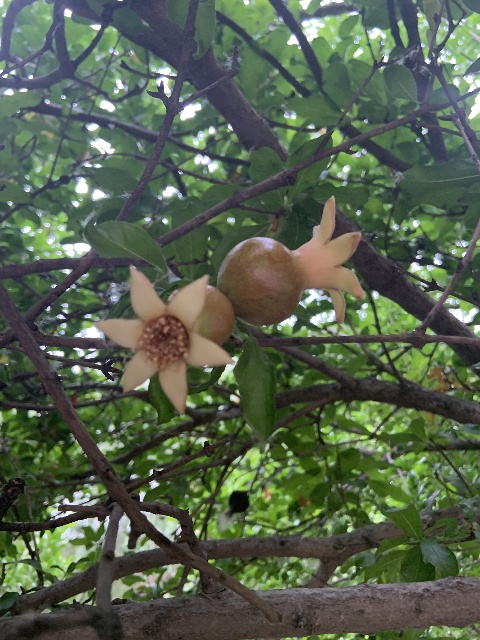early-fruit: (95, 267, 235, 415), (218, 195, 365, 327)
